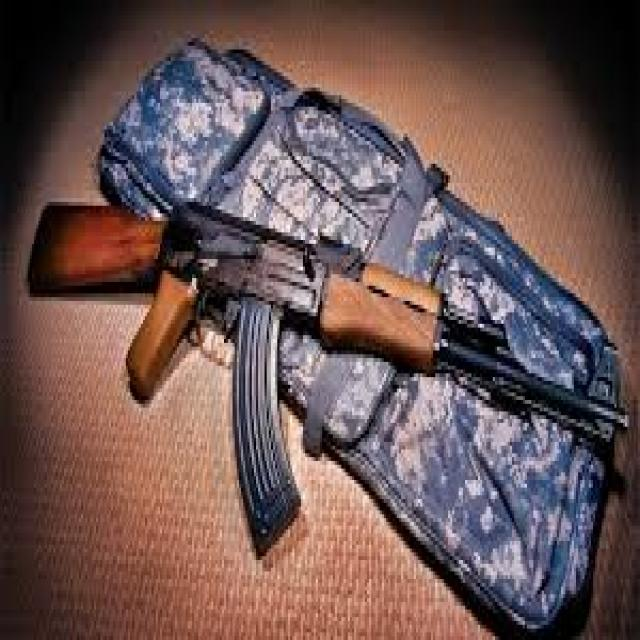AK-47 Gun: (22, 159, 632, 555)
